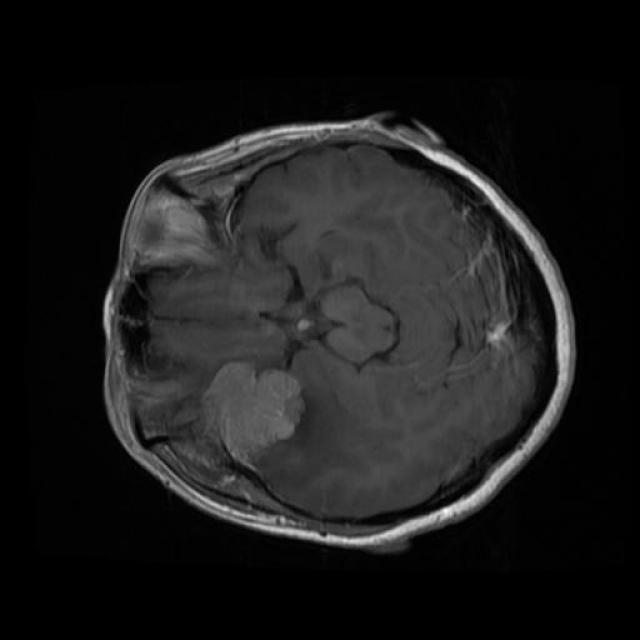Meningioma: (208, 363, 304, 473)
